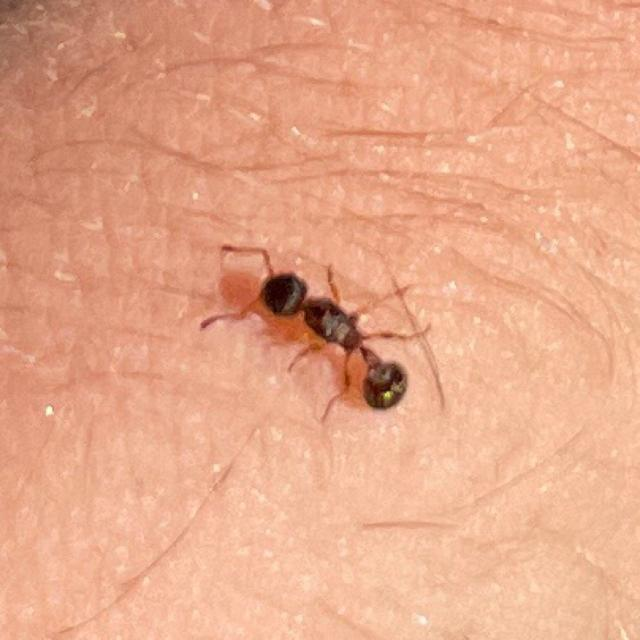Myrmica: (217, 217, 458, 433)
